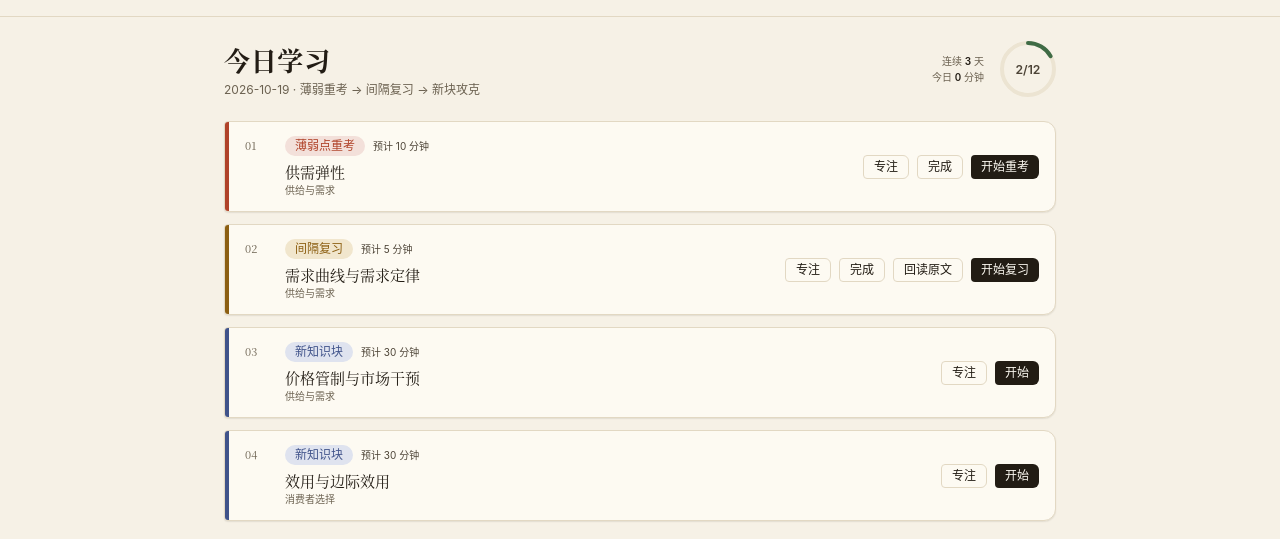
Test: 今日学习页 › 较晚到达的旧队列成功不会覆盖较新的成功快照
The width and height of the screenshot is (1280, 539).
Click the button "完成" in the row of "供需弹性". click: (940,166)
box: [917, 154, 963, 178]
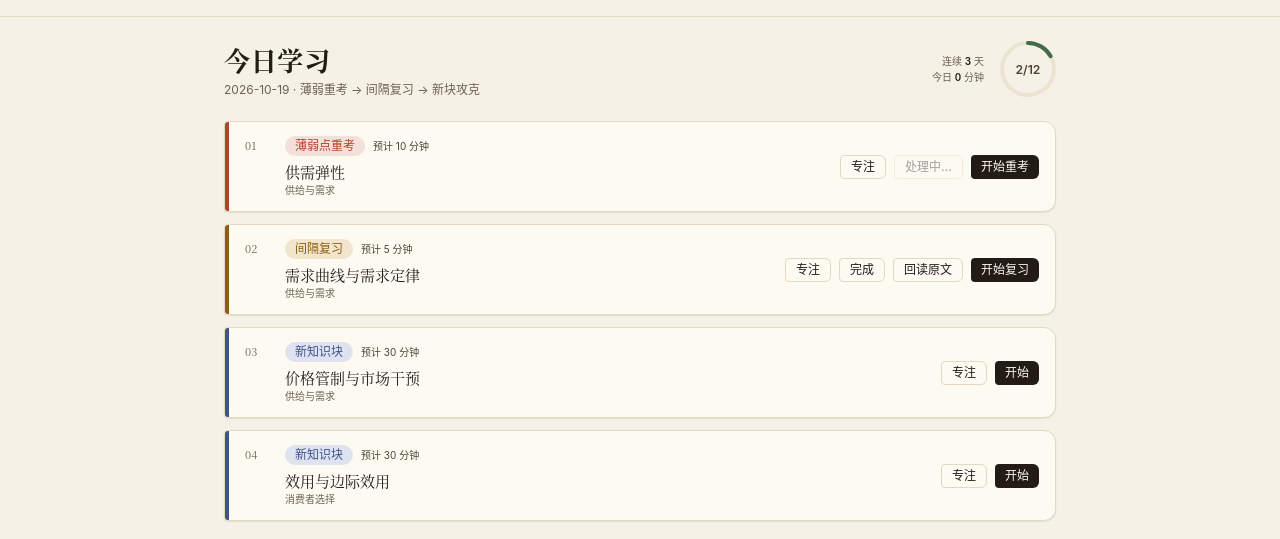
Click the button "完成". click: (862,270)
box: [839, 258, 885, 282]
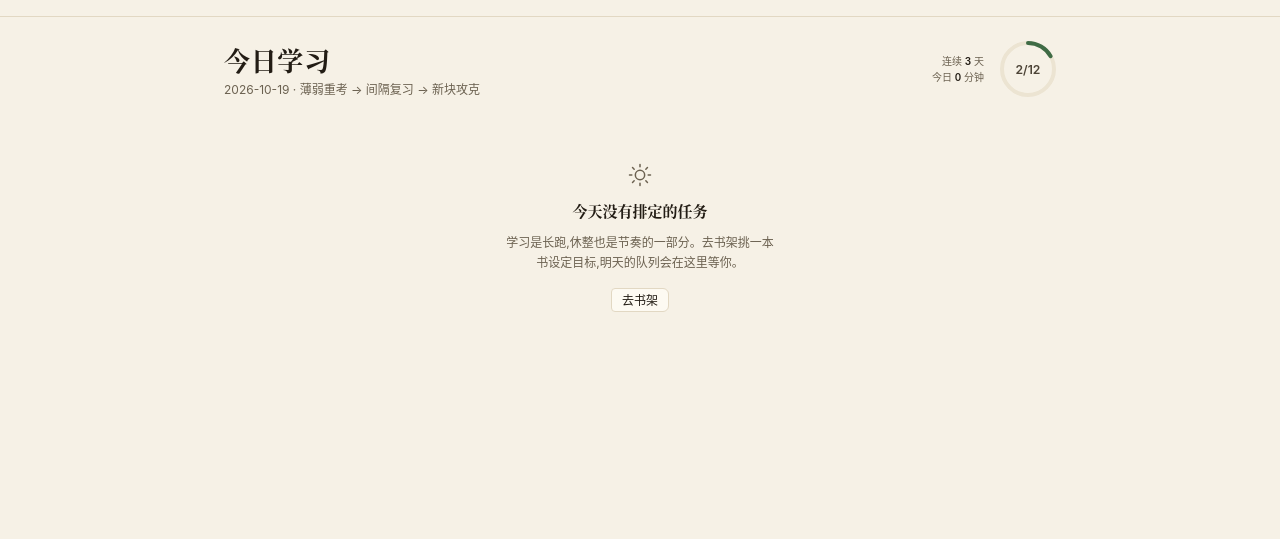
Now the element with test id "task-card" is gone
Now the heading "今天没有排定的任务" is shown, box [572, 201, 708, 221]
